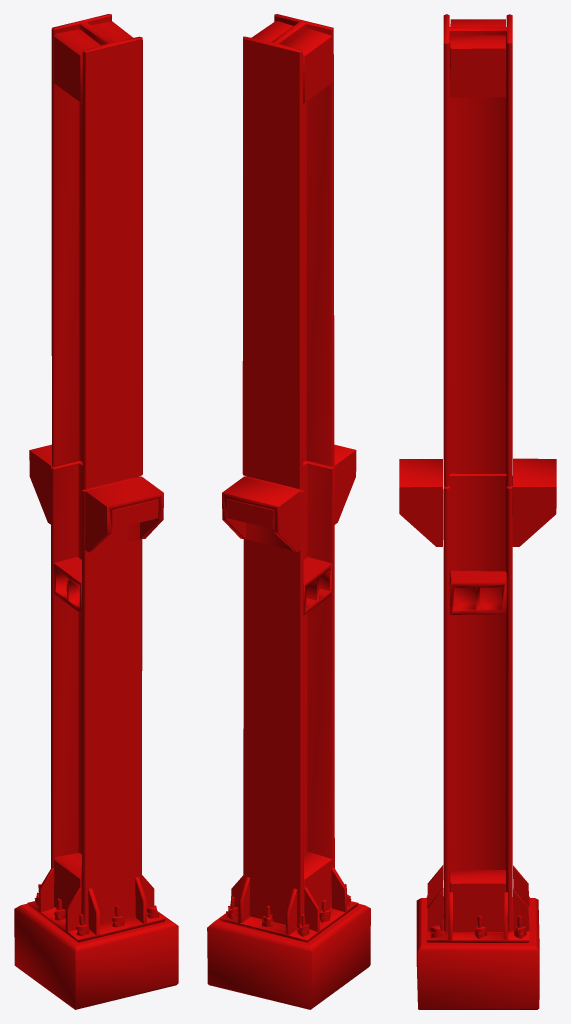
3 renders of one model, left to right at view 1: azimuth 30°, elevation 25°; view 2: azimuth 150°, elevation 25°; view 3: azimuth 270°, elevation 25°, orthographic.
Parts seen in each view (by area): view 1: Mesh; view 2: Mesh; view 3: Mesh.
Part boxes in pixels (left/top/right/bottom): Mesh: left=14, top=14, right=178, bottom=1009; Mesh: left=207, top=14, right=370, bottom=1009; Mesh: left=399, top=14, right=556, bottom=1009.
Size of the model in its own units: 1.95 by 16.76 by 2.5.
